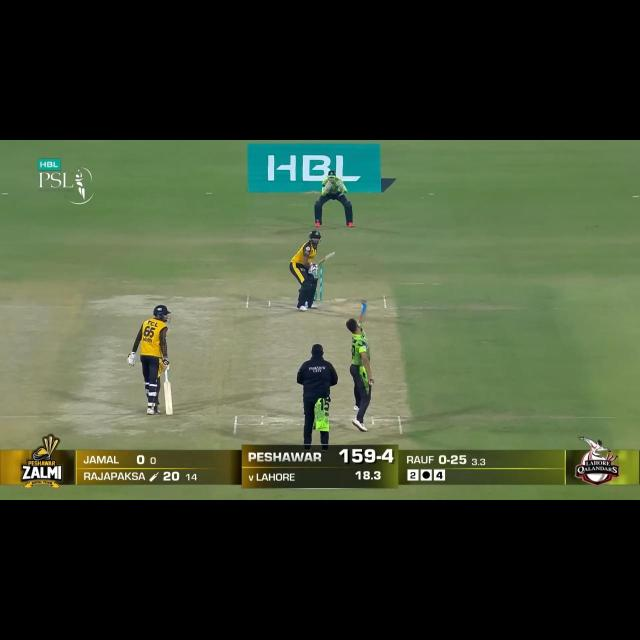bat: (163, 382, 174, 417), (316, 252, 335, 266)
toe: (165, 410, 173, 417), (329, 251, 336, 257)
